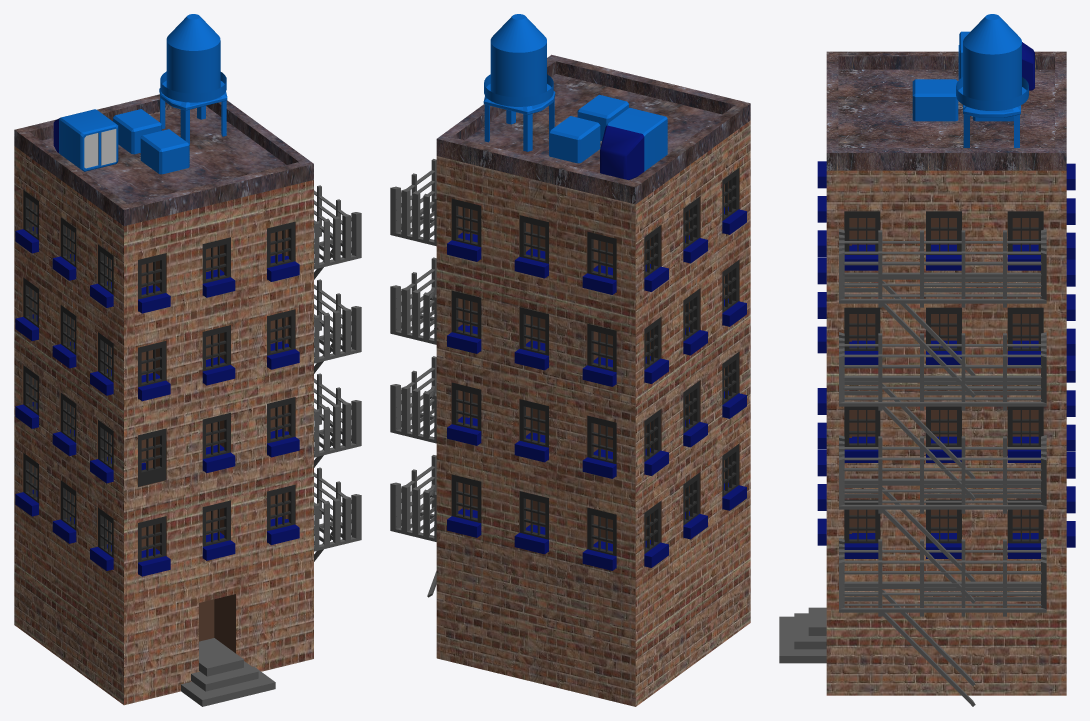
File: Building_Refined.fbx
3 renders of one model, left to right at view 1: azimuth 30°, elevation 25°; view 2: azimuth 150°, elevation 25°; view 3: azimuth 270°, elevation 25°, orthographic. The views are drawn at different scales.
Parts seen in each view (by area): view 1: building_4; view 2: building_4; view 3: building_4.
Part boxes in pixels (box(x1,y1,x2,y2)): building_4: box(14, 14, 361, 706); building_4: box(390, 14, 750, 706); building_4: box(779, 14, 1075, 706).
Bounding box in the file's own units: 1057 × 2413 × 989.
